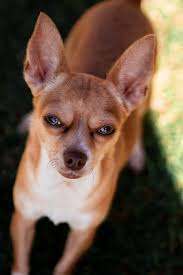Bulldog: (4, 7, 163, 271)
